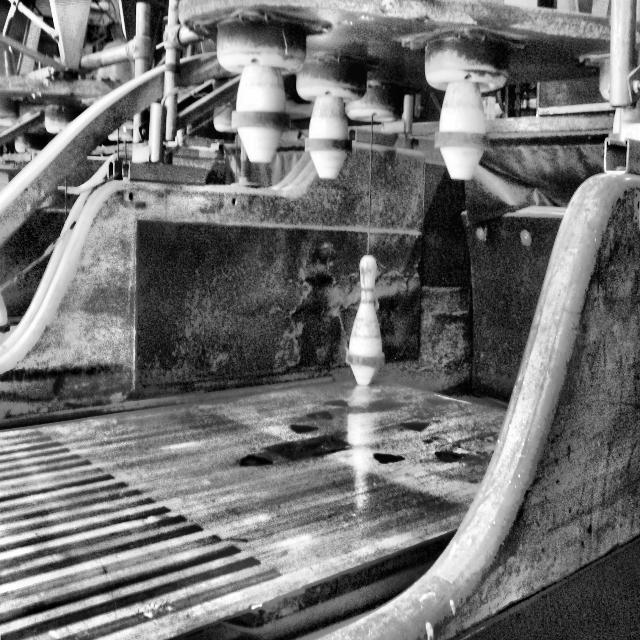bowling-pins: (346, 255, 385, 385)
